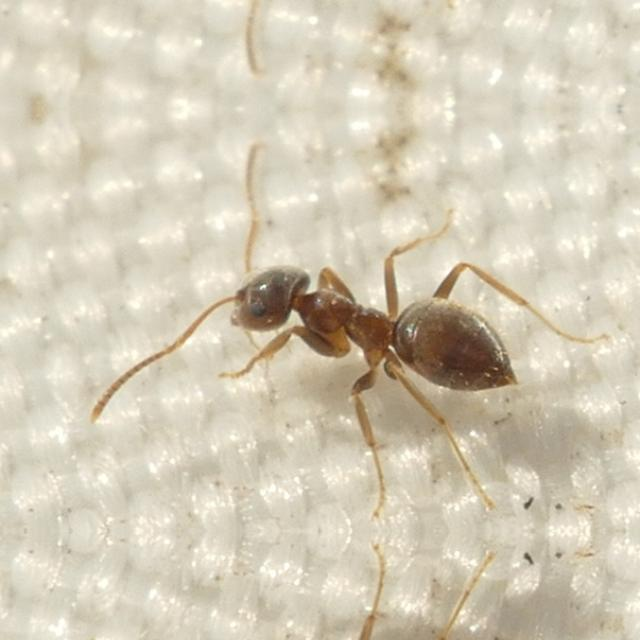Lasius: (200, 202, 538, 430)
